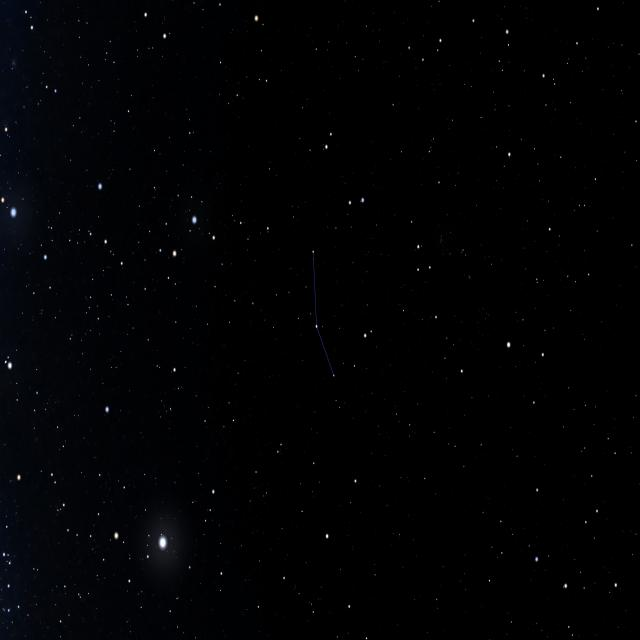Caelum: (302, 246, 340, 382)
